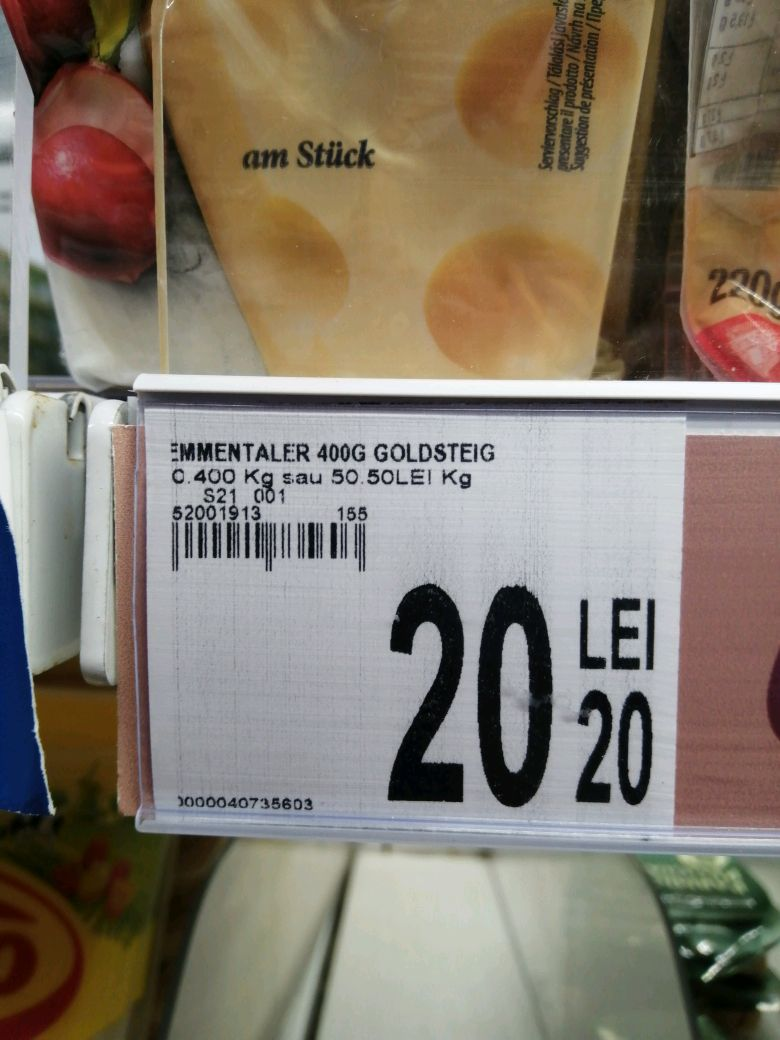price_bani: (564, 684, 668, 812)
price_lei: (368, 575, 558, 811)
price_tag: (134, 398, 692, 844)
product_id: (165, 786, 320, 822)
product_name: (157, 435, 501, 467)
